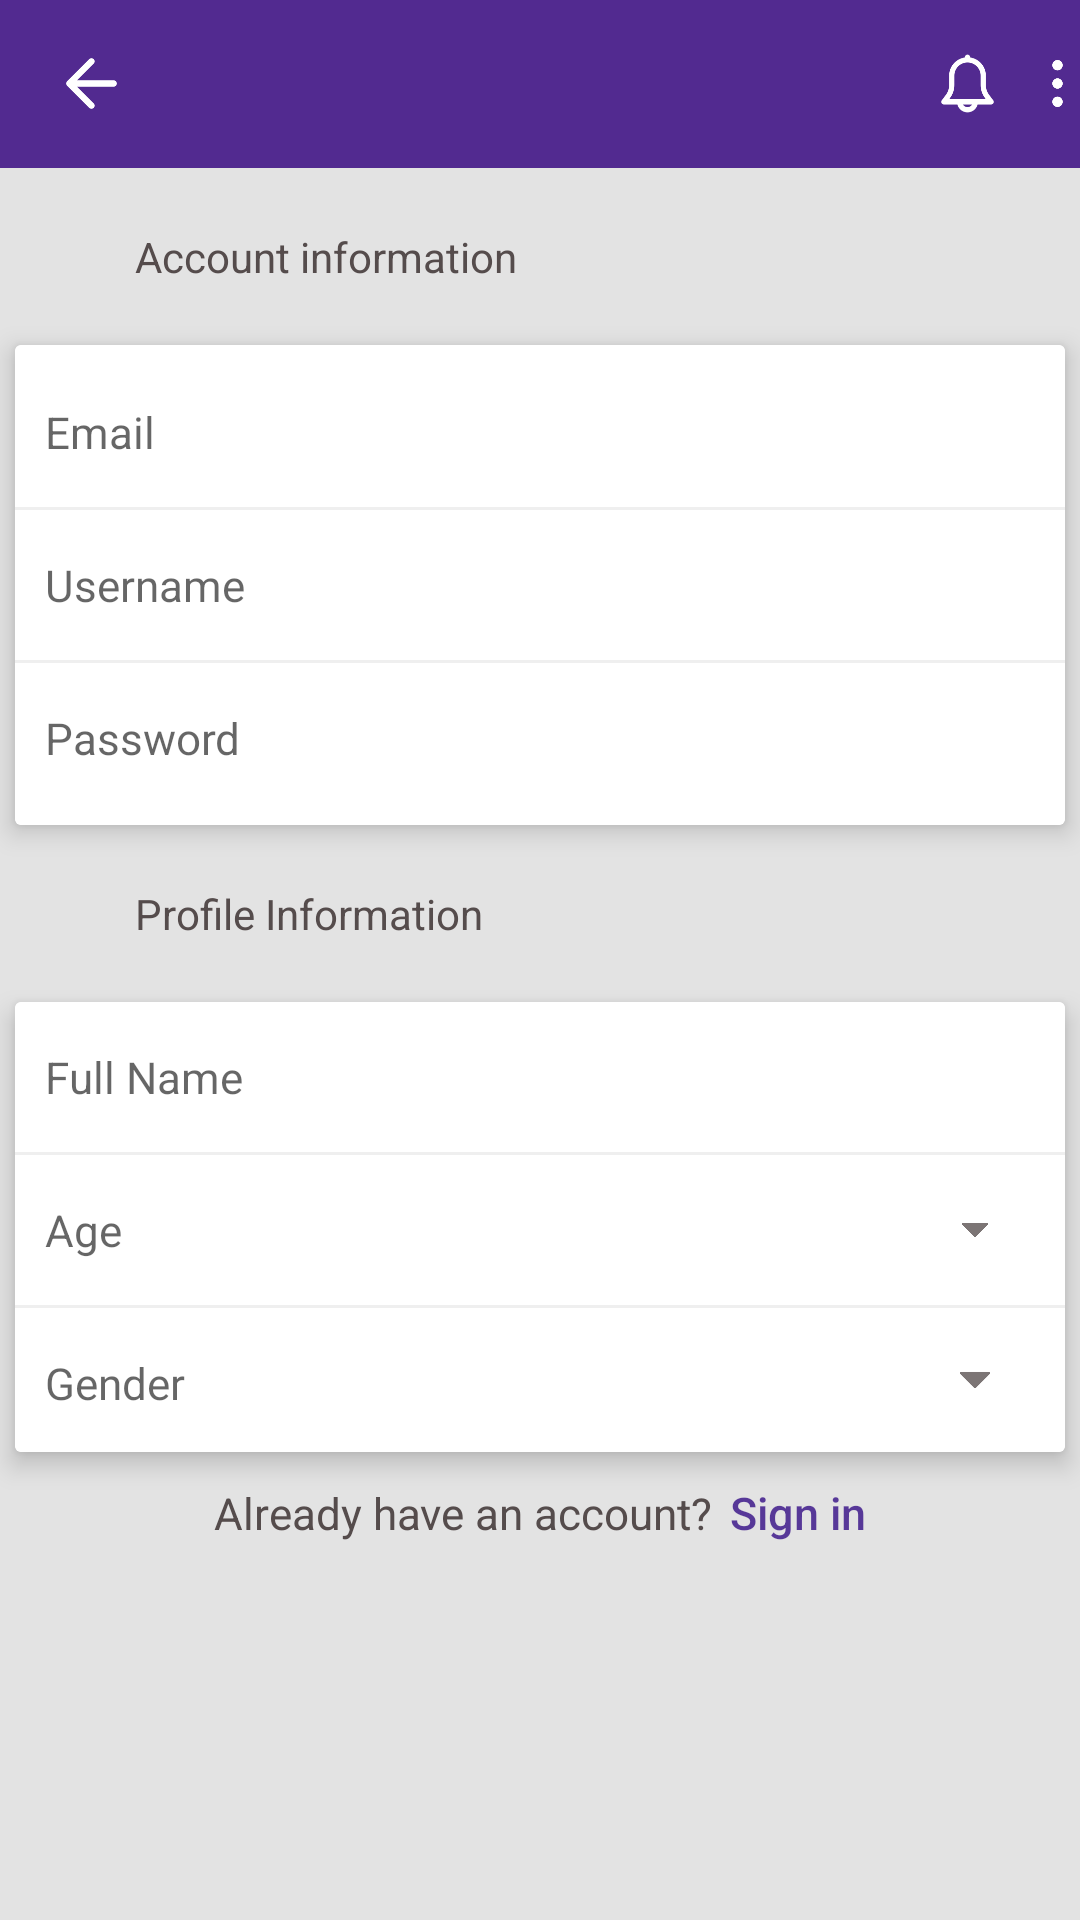

Icon click points for this 1080*1920 phone screenshot, format [x,y]:
back: [91,83]
downarrow: [975,1230], [975,1380]
notification: [967,83]
